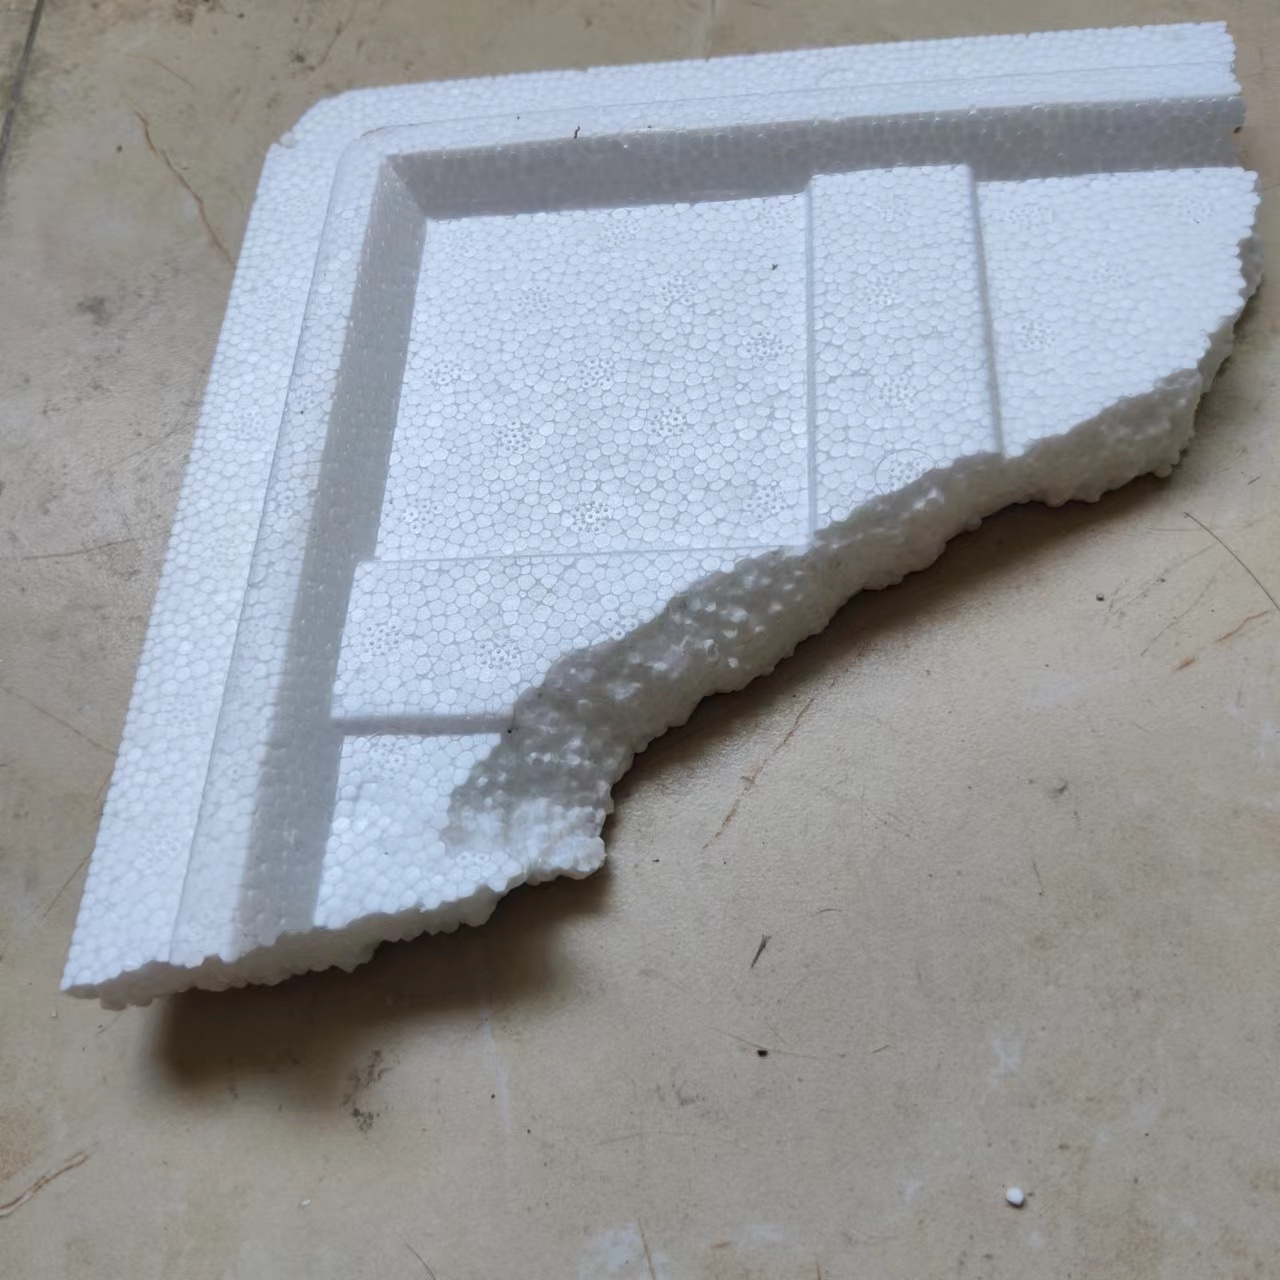5/可回收垃圾/泡沫: (57, 22, 1262, 1010)
